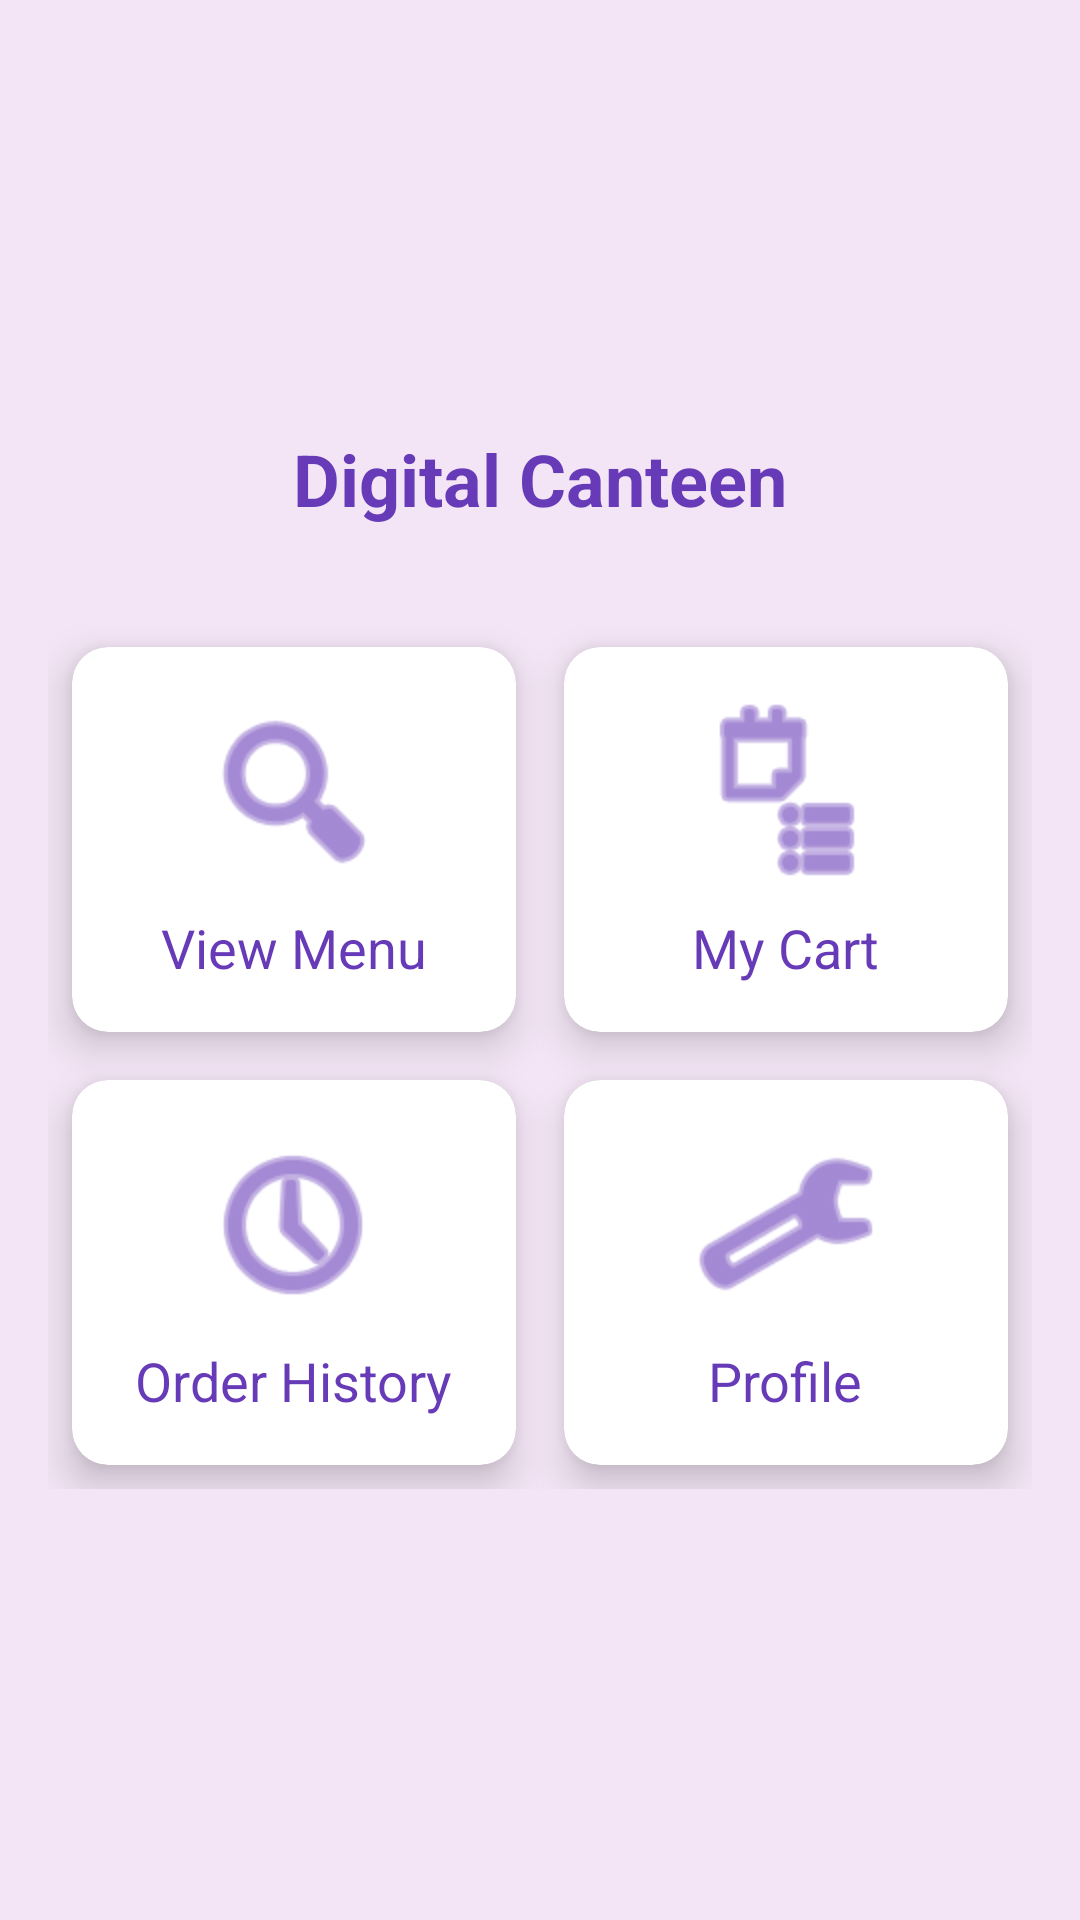

Icon click points for this 1080*1920 phone screenshot, format [x,y]:
agenda: [787,790]
manage: [785,1224]
recent history: [293,1225]
search: [294,792]
